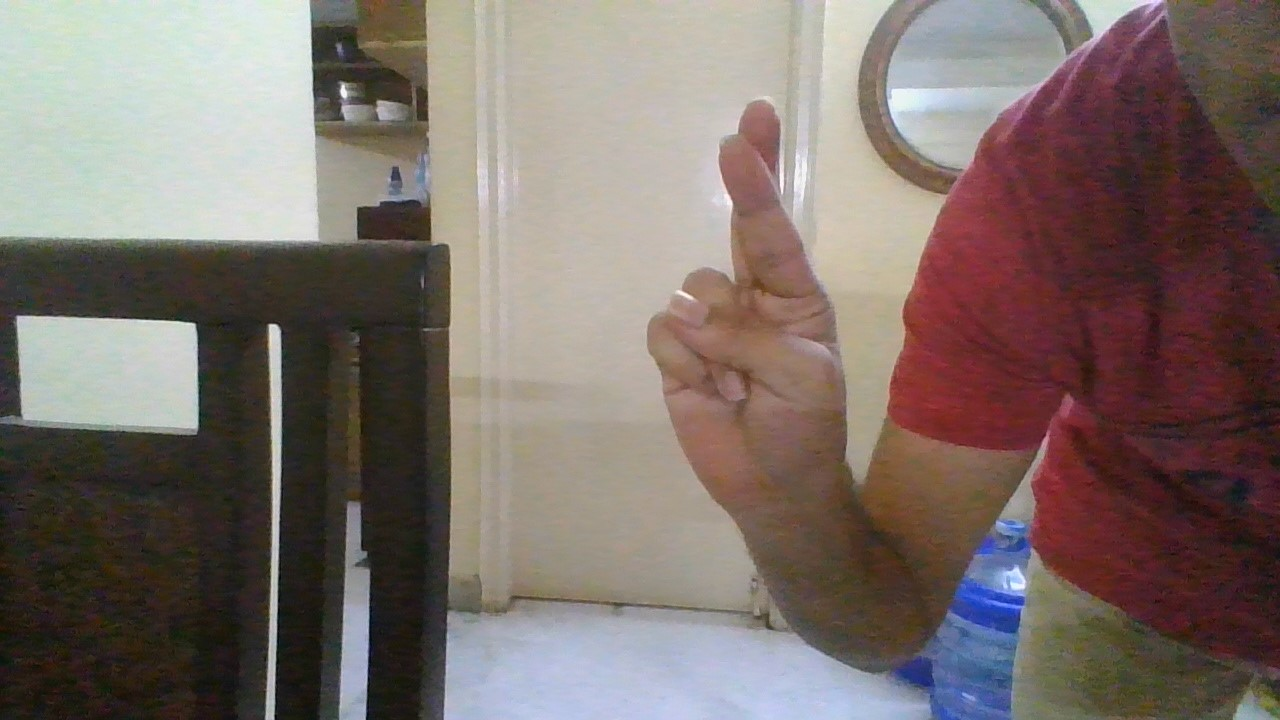r: (640, 89, 862, 508)
